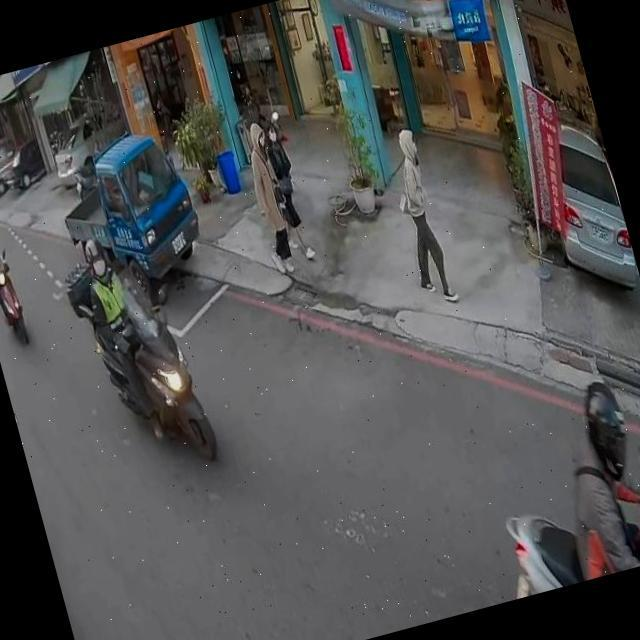person: (70, 217, 210, 448), (536, 371, 640, 580), (375, 116, 466, 312), (232, 108, 306, 284), (248, 106, 320, 268), (0, 219, 28, 333)
